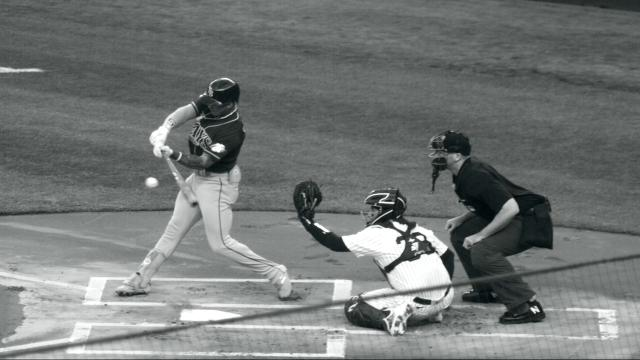ball: (144, 174, 158, 190)
bat: (163, 149, 199, 207)
